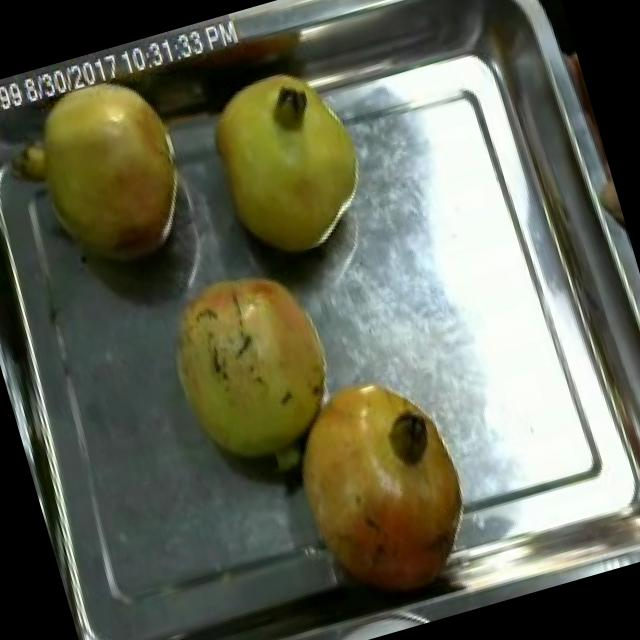fruit: (266, 351, 492, 619), (142, 242, 364, 496), (0, 37, 213, 294), (188, 53, 384, 275)
